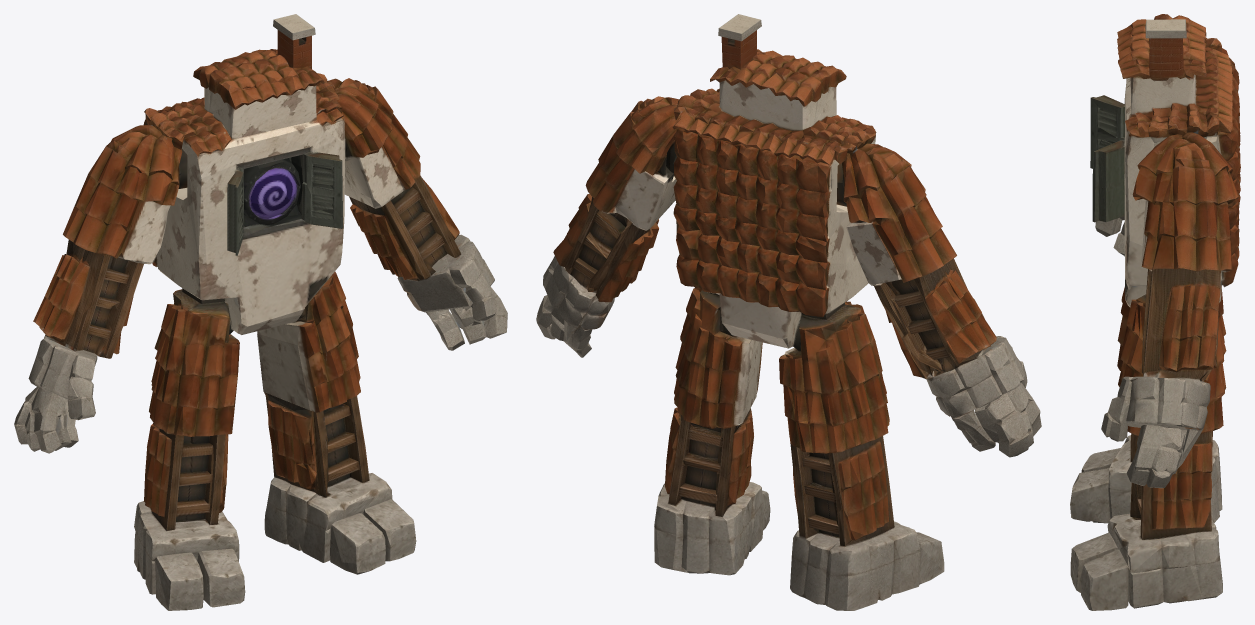
3 views of the same model, side by side, from view 1: azimuth 30°, elevation 25°; view 2: azimuth 150°, elevation 25°; view 3: azimuth 270°, elevation 25° (orthographic). The views are drawn at different scales.
Bounding box in the file's own units: 1.83 × 1.9 × 0.5412.
1 material, 1 textured.
